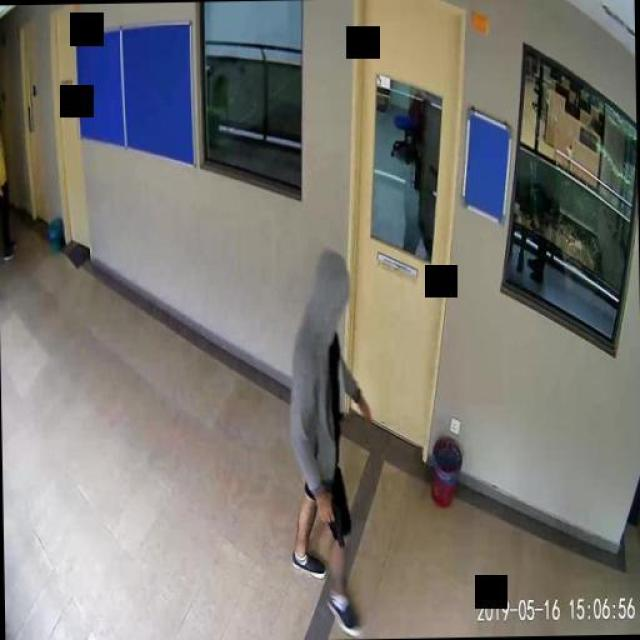gun: (316, 498, 344, 546)
